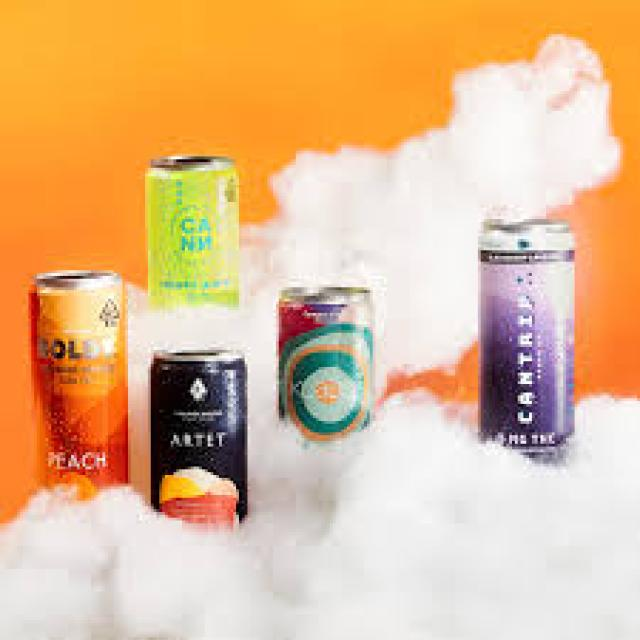Cans: (472, 211, 586, 464), (26, 267, 134, 498), (142, 341, 253, 535)
